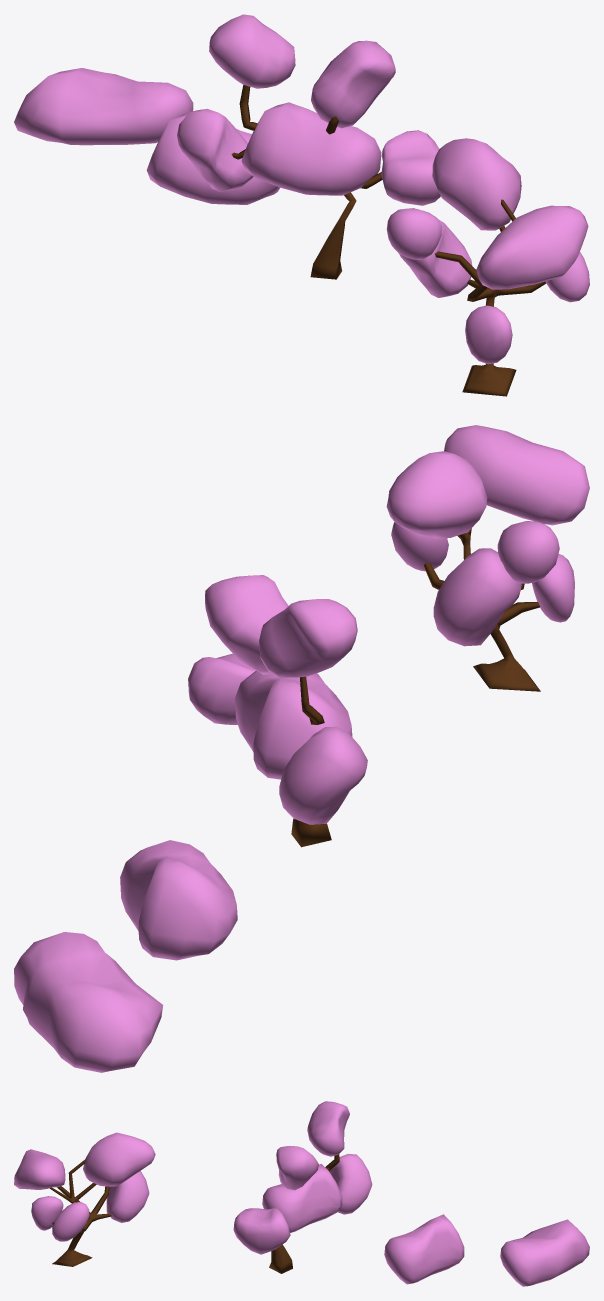
Rendered from ToonFoliage.fbx.
3 views of the same model, one above another, from view 1: azimuth 30°, elevation 25°; view 2: azimuth 150°, elevation 25°; view 3: azimuth 270°, elevation 25° (orthographic). The views are drawn at different scales.
Visible parts, largest first — view 1: Cube.012, Cube.007, Cube.002, Cube.001, Cube.013, Cube, Cube.003, Cube.006, Cube.005, Cube.004; view 2: Cube.012, Cube.007, Cube.013, Cube.002, Cube.001, Cube.003, Cube.006, Cube, Cube.005, Cube.004; view 3: Cube.012, Cube.007, Cube.013, Cube.001, Cube.002, Cube.003, Cube, Cube.004, Cube.005.
Boxes of the visible parts, <box> form: Cube.012: <box>177,14,440,279</box>; Cube.007: <box>14,68,193,145</box>; Cube.002: <box>476,205,588,289</box>; Cube.001: <box>432,138,521,230</box>; Cube.013: <box>146,113,279,204</box>; Cube: <box>435,199,546,396</box>; Cube.003: <box>399,220,472,297</box>; Cube.006: <box>386,208,442,259</box>; Cube.005: <box>465,305,512,364</box>; Cube.004: <box>545,252,589,302</box>; Cube.012: <box>188,575,367,847</box>; Cube.007: <box>14,932,163,1072</box>; Cube.013: <box>120,840,237,960</box>; Cube.002: <box>444,425,589,525</box>; Cube.001: <box>386,451,487,538</box>; Cube.003: <box>433,548,521,646</box>; Cube.006: <box>497,521,559,583</box>; Cube: <box>423,528,540,691</box>; Cube.005: <box>532,554,574,622</box>; Cube.004: <box>391,522,448,571</box>; Cube.012: <box>233,1101,372,1273</box>; Cube.007: <box>500,1219,589,1286</box>; Cube.013: <box>384,1214,464,1284</box>; Cube.001: <box>83,1132,155,1186</box>; Cube.002: <box>14,1149,65,1189</box>; Cube.003: <box>106,1171,149,1222</box>; Cube: <box>49,1159,111,1266</box>; Cube.004: <box>52,1202,89,1241</box>; Cube.005: <box>31,1196,63,1230</box>.
Size of the model in its own units: 155 by 188 by 609.
